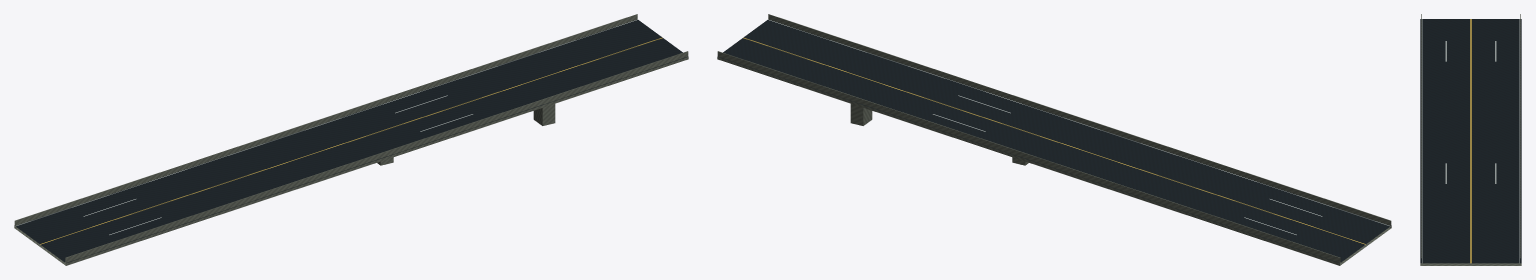
Rendered from elevated_ramp_4lane_100m_LOD1.glb.
3 renders of one model, left to right at view 1: azimuth 30°, elevation 25°; view 2: azimuth 150°, elevation 25°; view 3: azimuth 270°, elevation 25°, orthographic.
Visible parts, largest first — view 1: elevated_ramp_4lane_100m__deck.001, elevated_ramp_4lane_100m__pier.001; view 2: elevated_ramp_4lane_100m__deck.001, elevated_ramp_4lane_100m__pier.001; view 3: elevated_ramp_4lane_100m__deck.001.
Boxes of the visible parts, left/top/right/bottom form: elevated_ramp_4lane_100m__deck.001: left=14, top=14, right=688, bottom=265; elevated_ramp_4lane_100m__pier.001: left=377, top=104, right=555, bottom=165; elevated_ramp_4lane_100m__deck.001: left=717, top=14, right=1391, bottom=265; elevated_ramp_4lane_100m__pier.001: left=850, top=104, right=1028, bottom=165; elevated_ramp_4lane_100m__deck.001: left=1420, top=14, right=1521, bottom=265.
Size of the model in its own units: 100 by 9.58 by 14.4.
Materials: 4 (2 with a texture image).
